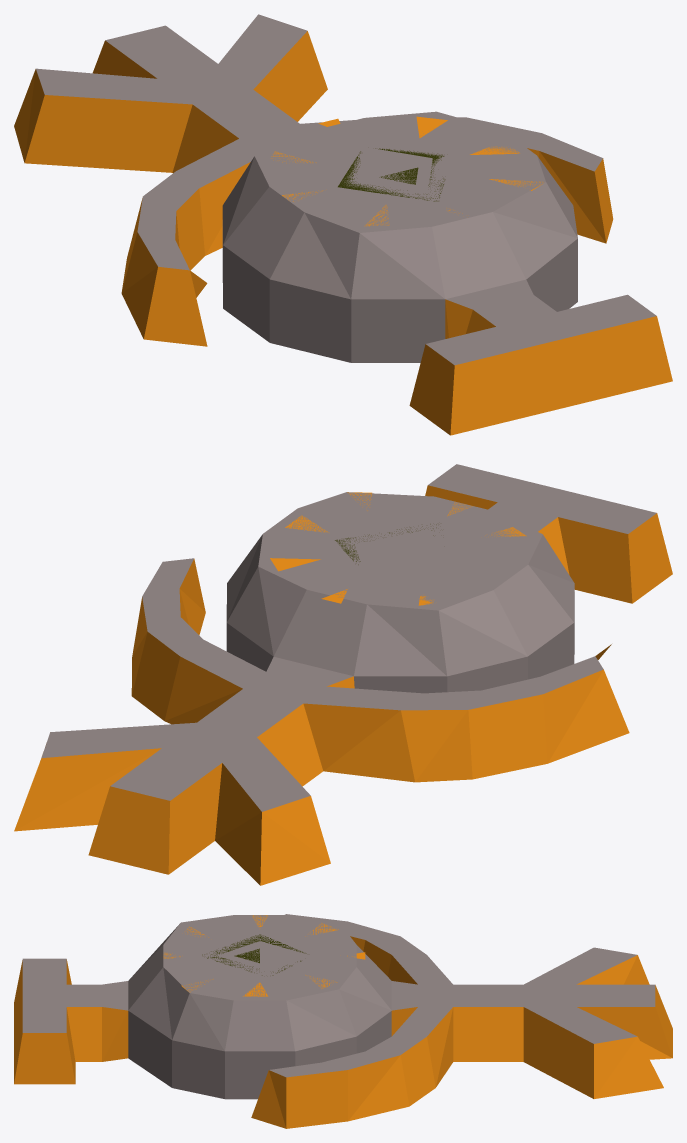
The model's file is inv_mind_talisman.obj.
3 renders of one model, top to bottom at view 1: azimuth 30°, elevation 25°; view 2: azimuth 150°, elevation 25°; view 3: azimuth 270°, elevation 25°, orthographic. The views are drawn at different scales.
Bounding box in the file's own units: 0.3672 × 0.0859 × 0.5859.
